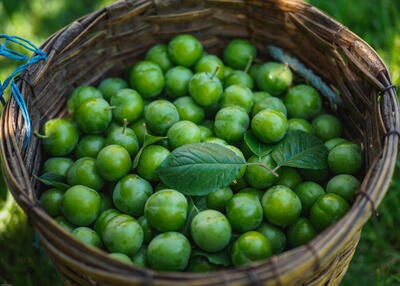Plum: (142, 191, 189, 229), (192, 210, 229, 249), (74, 97, 108, 131), (188, 71, 220, 103)
